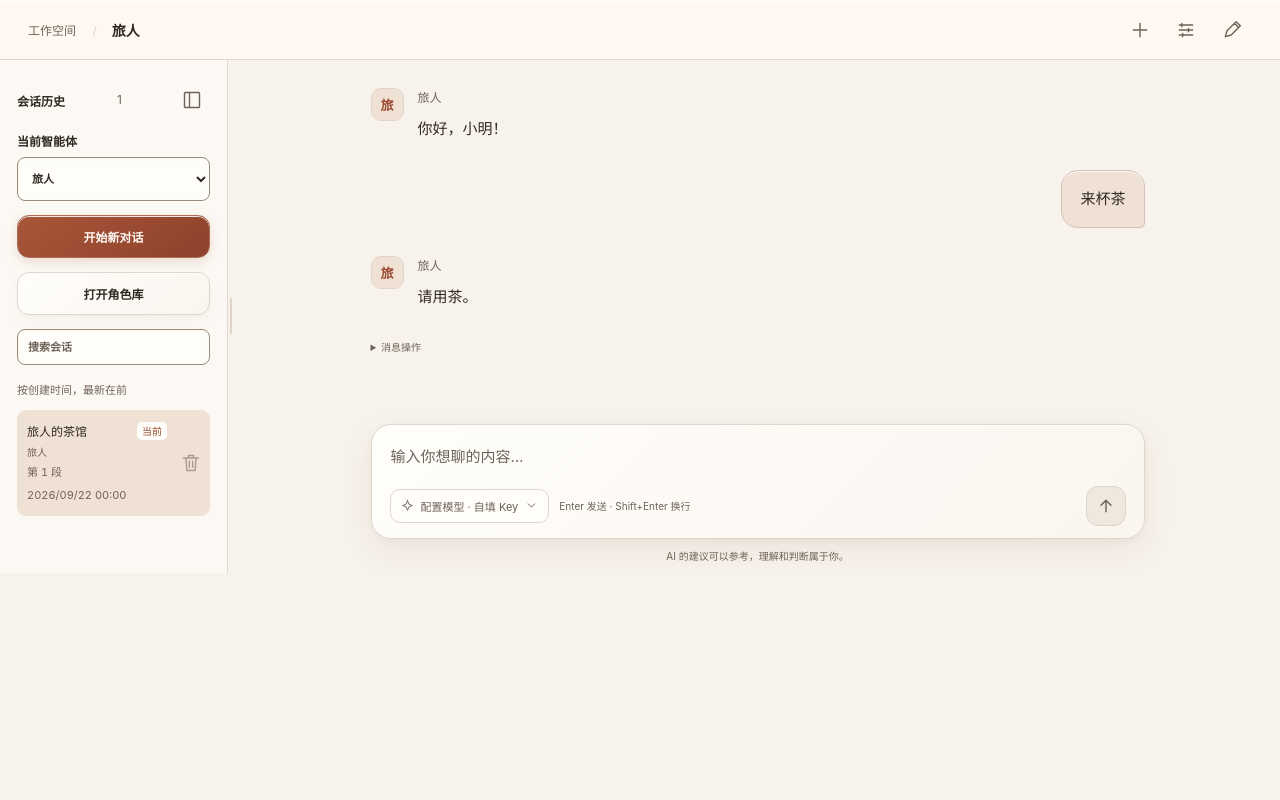
Test: starts with only chat despite enabled drawing and opens the canvas only on request
Check: the text "请用茶。" is shown, box [418, 286, 478, 306]
Check: the element "教学画布" is not shown
Click the button named "教学画布" at coordinates (1232, 30), box [1212, 10, 1252, 50]
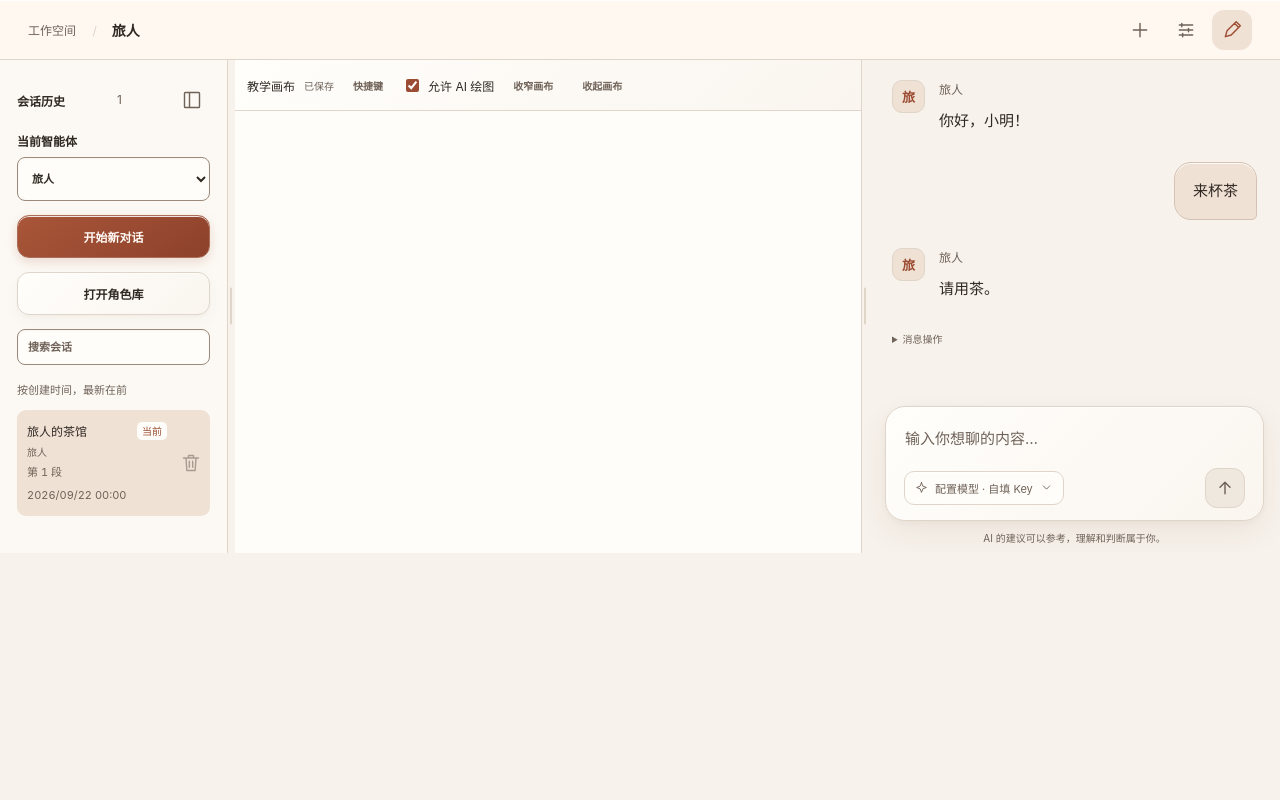
Check: the text box named "消息" is enabled, box [904, 424, 1245, 468]
Check: the checkbox labelled "允许 AI 绘图" is checked, box [406, 78, 419, 92]
